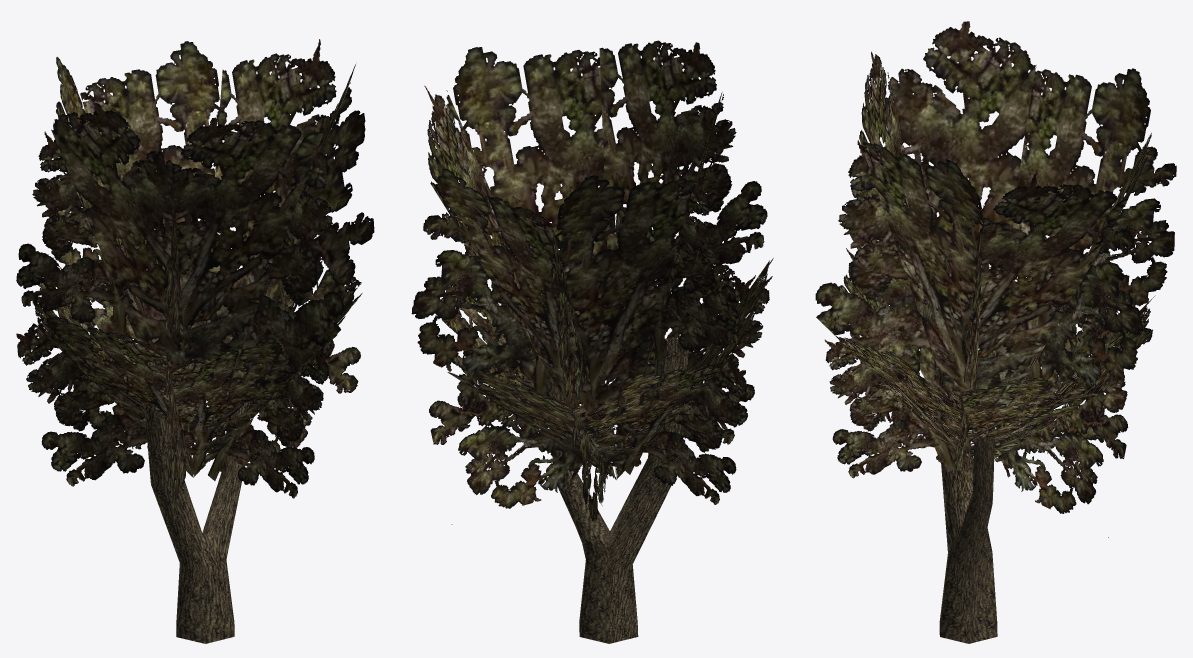
The model's file is OW_LOB_TREE_V6.glb.
3 renders of one model, left to right at view 1: azimuth 30°, elevation 25°; view 2: azimuth 150°, elevation 25°; view 3: azimuth 270°, elevation 25°, orthographic.
Parts seen in each view (by area): view 1: Mesh; view 2: Mesh; view 3: Mesh.
Part boxes in pixels (box(x1,y1,x2,y2)): Mesh: box(16, 39, 374, 643); Mesh: box(411, 40, 773, 643); Mesh: box(815, 21, 1176, 643).
Size of the model in its own units: 23.95 by 38.75 by 23.19.
Materials: 2 (2 with a texture image).
